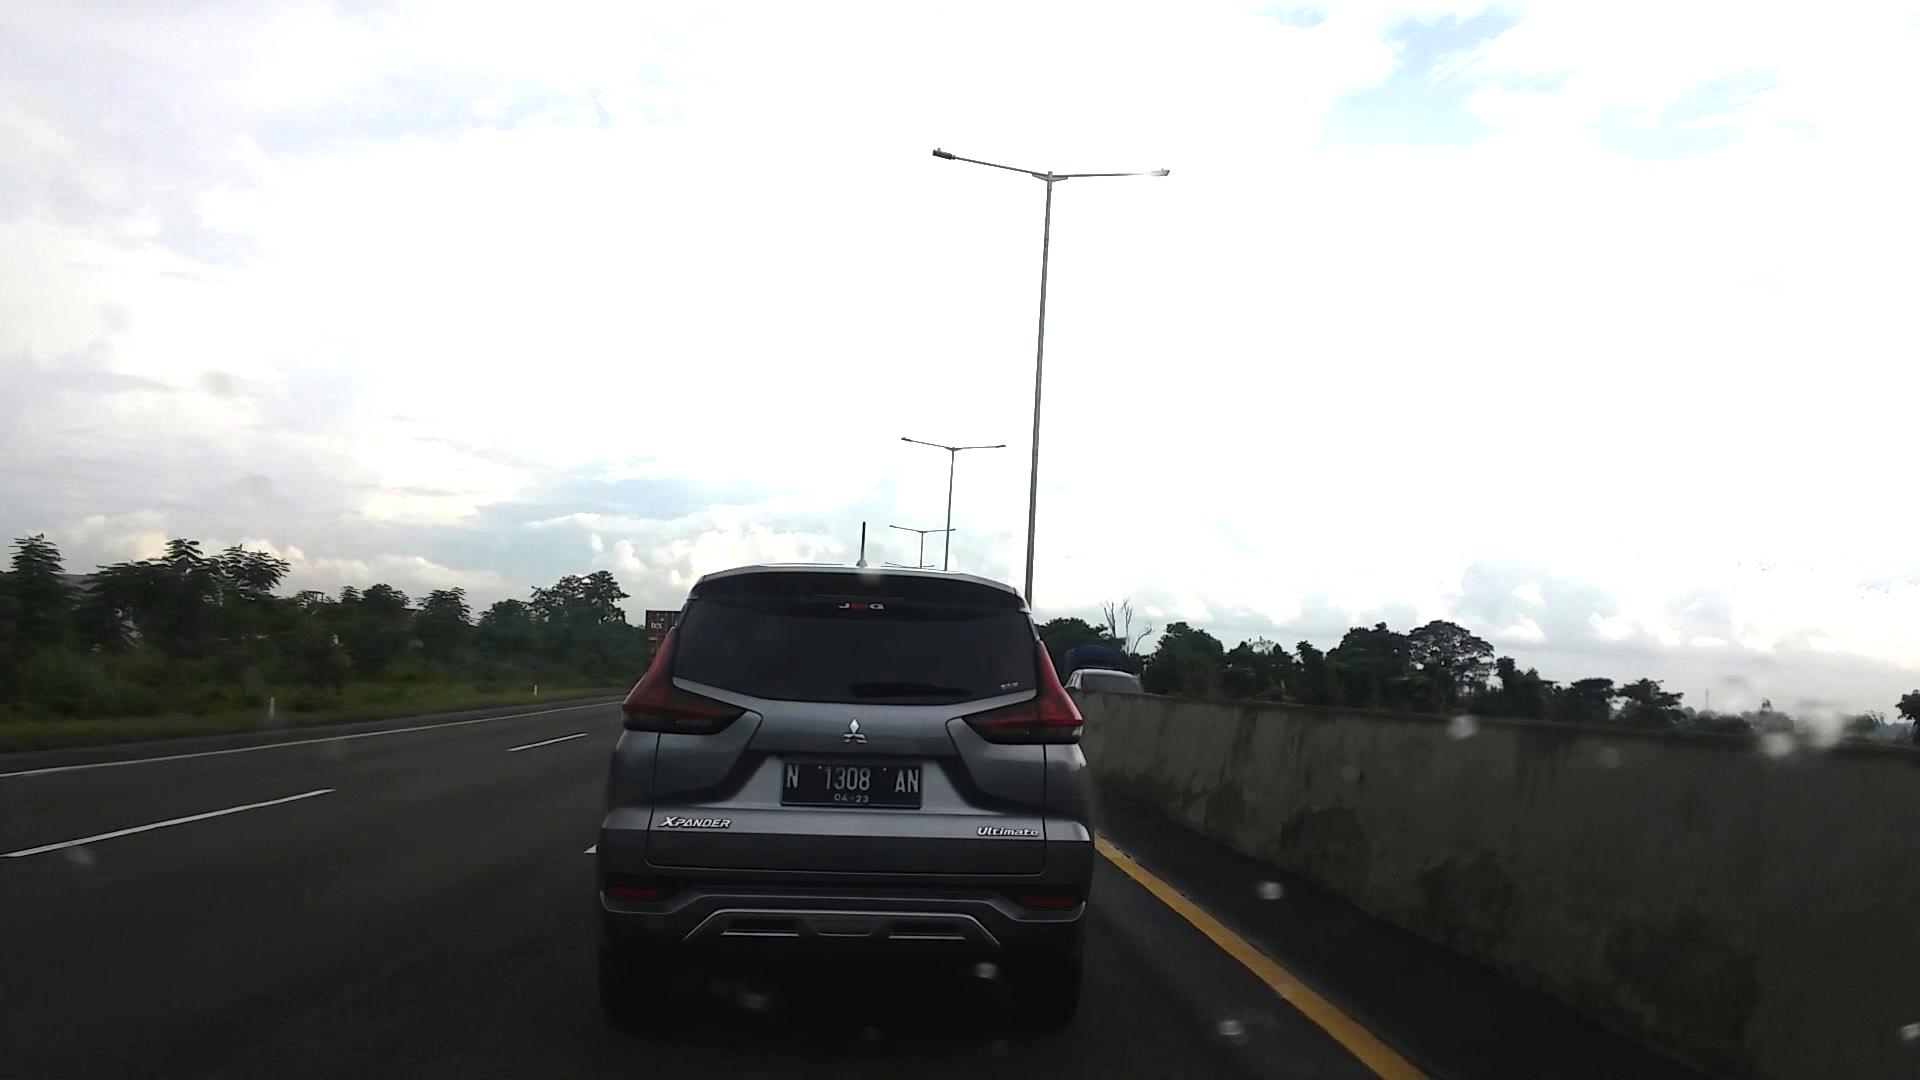plate_positive: (781, 760, 923, 808)
